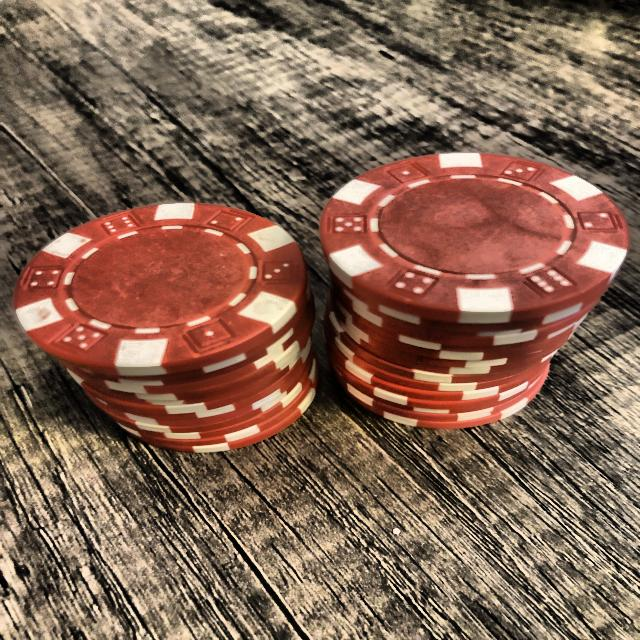Chip: (324, 149, 633, 432), (10, 198, 322, 454)
